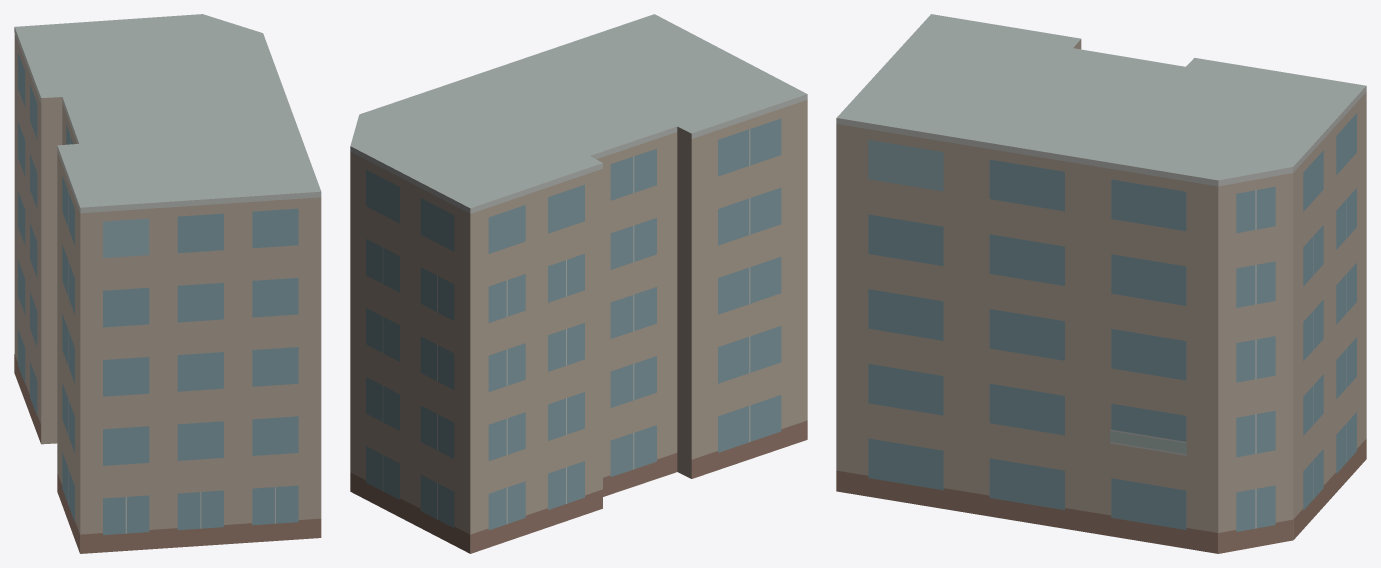
File: survey-upis-32880885.glb
3 renders of one model, left to right at view 1: azimuth 30°, elevation 25°; view 2: azimuth 150°, elevation 25°; view 3: azimuth 270°, elevation 25°, orthographic. The views are drawn at different scales.
Visible parts, largest first — view 1: survey-upis-32880885.tmp; view 2: survey-upis-32880885.tmp; view 3: survey-upis-32880885.tmp.
Part boxes in pixels (x1,y1,x2,y2): survey-upis-32880885.tmp: (14,14,321,553); survey-upis-32880885.tmp: (350,14,807,553); survey-upis-32880885.tmp: (836,14,1366,553).
Size of the model in its own units: 14.54 by 15.2 by 19.56.
